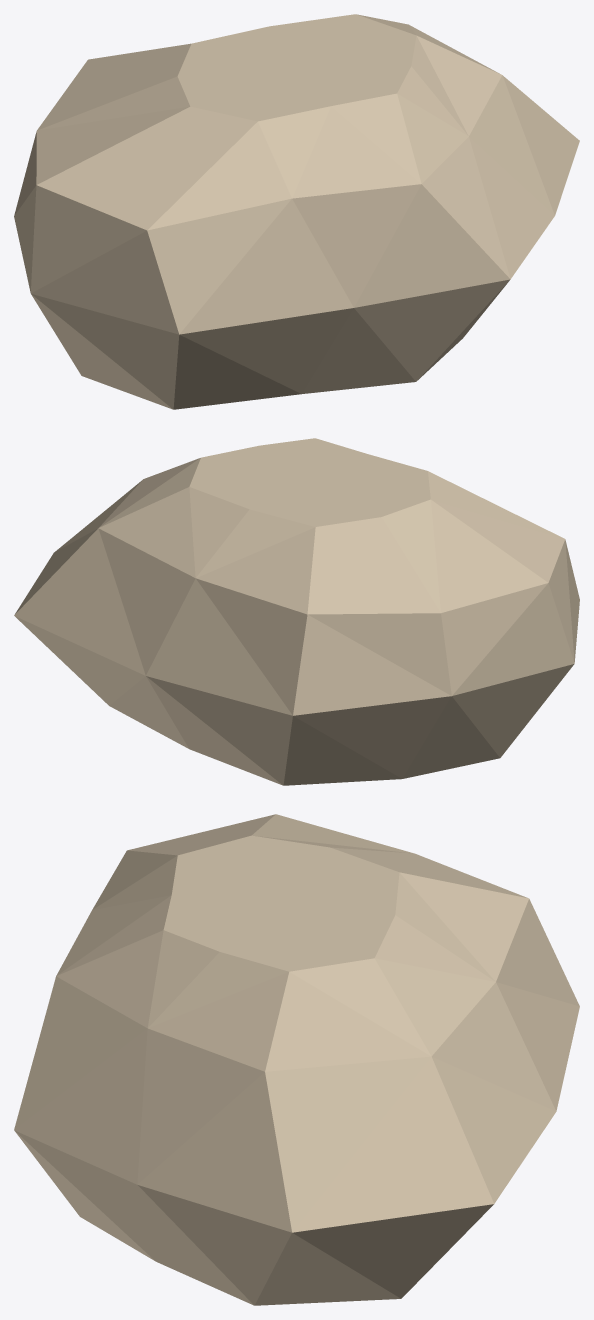
File: rock_L_b.fbx
3 renders of one model, top to bottom at view 1: azimuth 30°, elevation 25°; view 2: azimuth 150°, elevation 25°; view 3: azimuth 270°, elevation 25°, orthographic. The views are drawn at different scales.
Parts seen in each view (by area): view 1: rock_L_b; view 2: rock_L_b; view 3: rock_L_b.
Part boxes in pixels (box(x1,y1,x2,y2)): rock_L_b: box(14, 14, 579, 409); rock_L_b: box(14, 438, 579, 785); rock_L_b: box(14, 814, 579, 1305).
Bounding box in the file's own units: 6 × 2.6 × 4.5.
